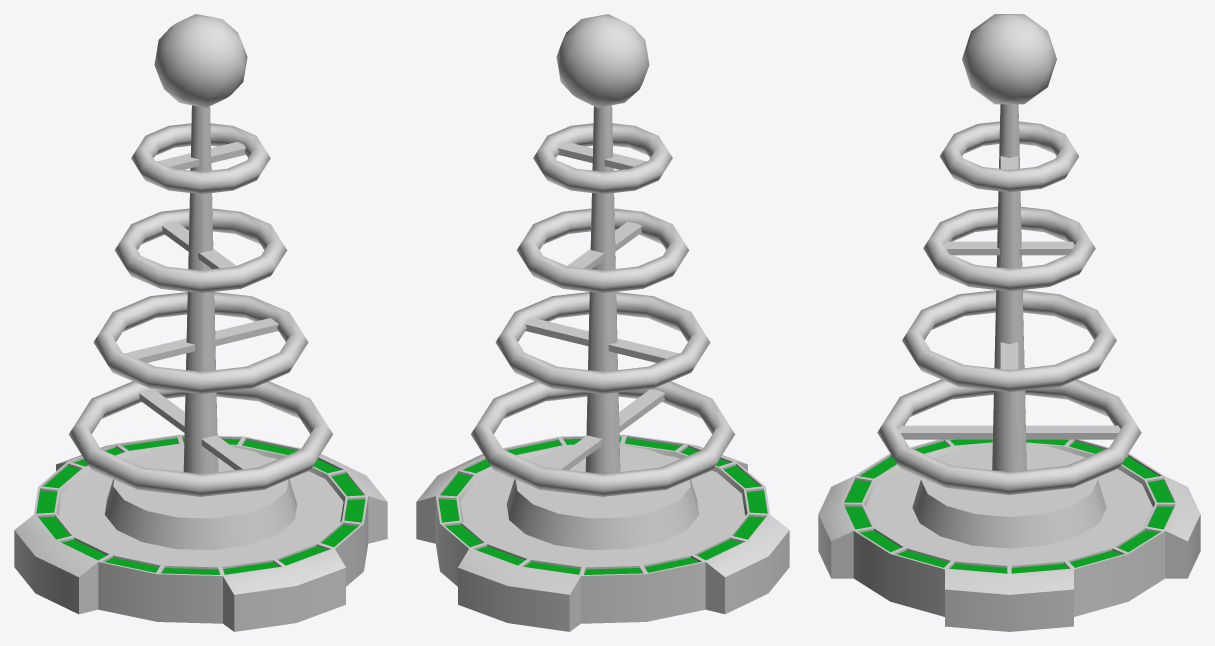
The model's file is turret_6.FBX.
The picture shows the model from 3 angles, left to right: view 1: azimuth 30°, elevation 25°; view 2: azimuth 150°, elevation 25°; view 3: azimuth 270°, elevation 25°; orthographic projection.
Parts seen in each view (by area): view 1: Head, Body, Temperature; view 2: Head, Body, Temperature; view 3: Head, Body, Temperature.
Boxes of the visible parts, x1,y1,x2,y2 form: Head: (69,14,332,496); Body: (14,434,387,631); Temperature: (36,437,365,574); Head: (471,14,734,496); Body: (416,434,789,631); Temperature: (438,437,767,574); Head: (877,14,1141,494); Body: (818,439,1200,631); Temperature: (844,439,1174,573).
Size of the model in its own units: 0.8514 by 1.32 by 0.8514.
